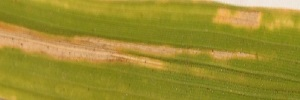RiceBacterialBlight: (1, 22, 201, 85), (206, 2, 300, 42)
